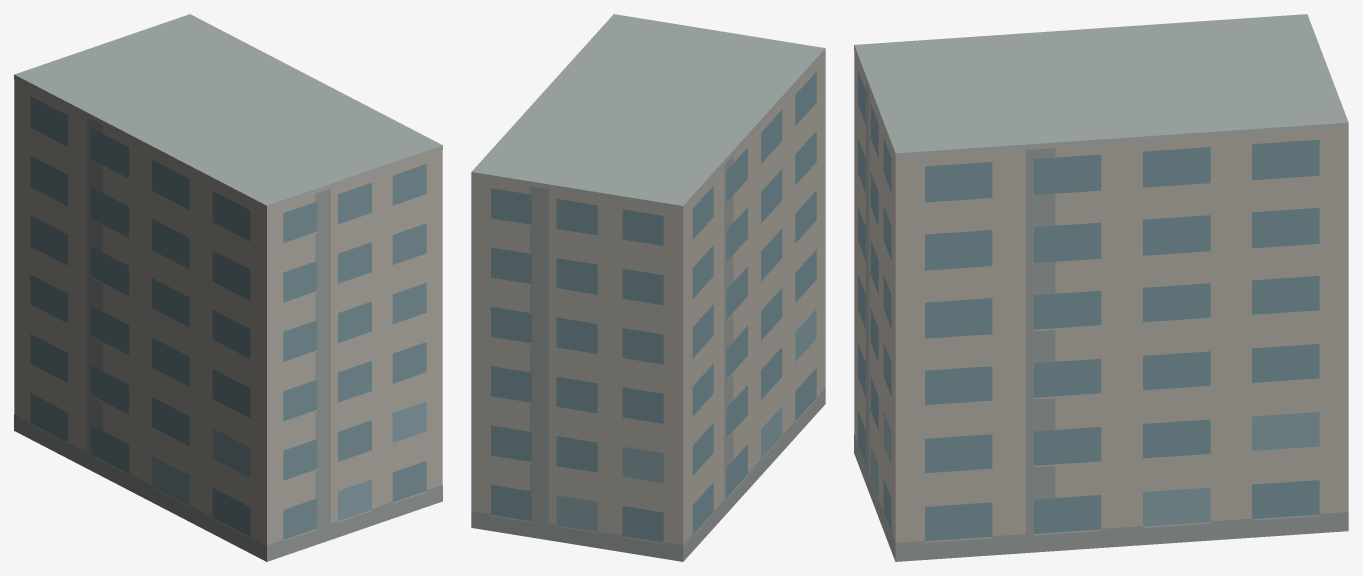
File: survey-upis-32750979.glb
3 views of the same model, side by side, from view 1: azimuth 30°, elevation 25°; view 2: azimuth 150°, elevation 25°; view 3: azimuth 270°, elevation 25° (orthographic). The views are drawn at different scales.
Parts seen in each view (by area): view 1: survey-upis-32750979.tmp; view 2: survey-upis-32750979.tmp; view 3: survey-upis-32750979.tmp.
Part boxes in pixels (<box>): survey-upis-32750979.tmp: <box>14,14,442,561</box>; survey-upis-32750979.tmp: <box>471,14,825,561</box>; survey-upis-32750979.tmp: <box>854,14,1348,561</box>.
Size of the model in its own units: 13.4 by 18.3 by 20.09.
